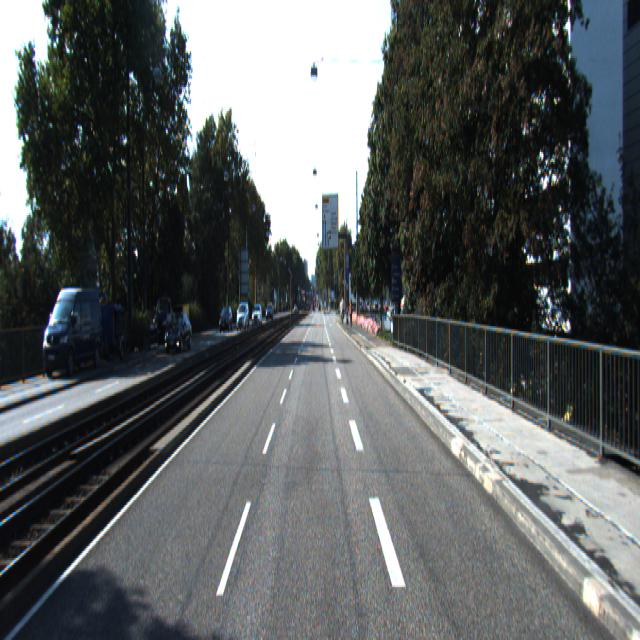Car: (42, 284, 105, 378), (101, 300, 130, 362), (152, 296, 182, 346), (164, 312, 194, 358), (177, 302, 190, 336), (218, 306, 233, 334), (236, 303, 249, 330)
